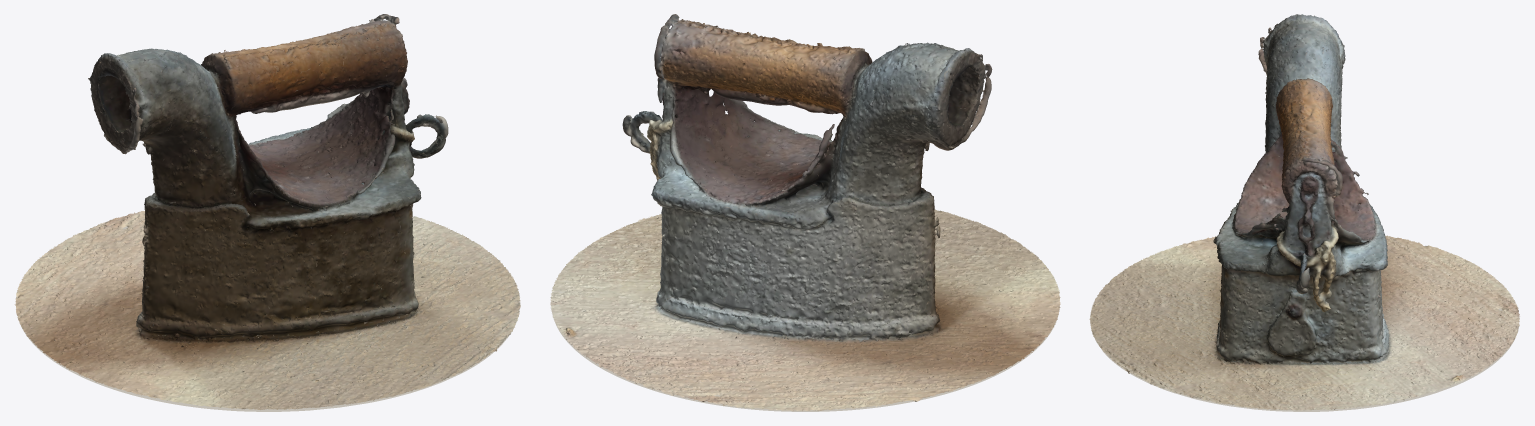
Rendered from plancha.glb.
3 views of the same model, side by side, from view 1: azimuth 30°, elevation 25°; view 2: azimuth 150°, elevation 25°; view 3: azimuth 270°, elevation 25° (orthographic). The views are drawn at different scales.
Visible parts, largest first — view 1: objeto, base_rellenada; view 2: objeto, base_rellenada; view 3: objeto, base_rellenada.
Boxes of the visible parts, bbox=[...] form: objeto: bbox=[14, 14, 520, 409]; base_rellenada: bbox=[17, 226, 516, 411]; objeto: bbox=[550, 14, 1060, 410]; base_rellenada: bbox=[551, 310, 1058, 411]; objeto: bbox=[1089, 14, 1519, 410]; base_rellenada: bbox=[1095, 309, 1516, 411].
Bounding box in the file's own units: 0.1638 × 0.1029 × 0.1636.
2 materials, 1 textured.
